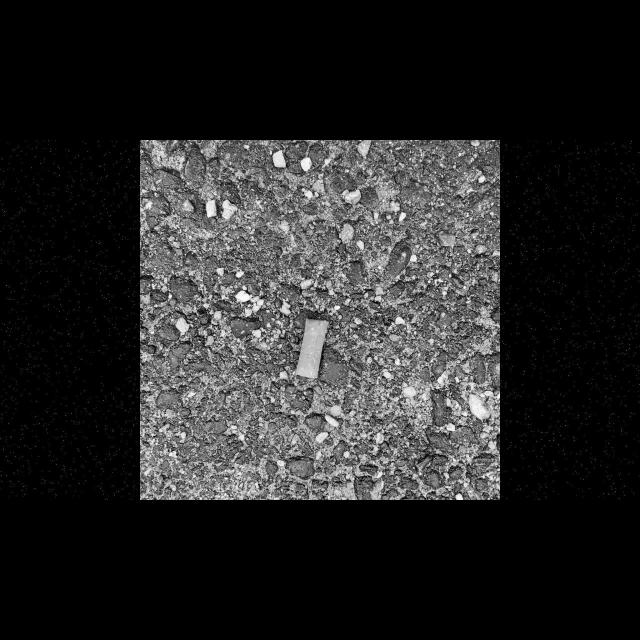cigarette: (294, 317, 330, 379)
